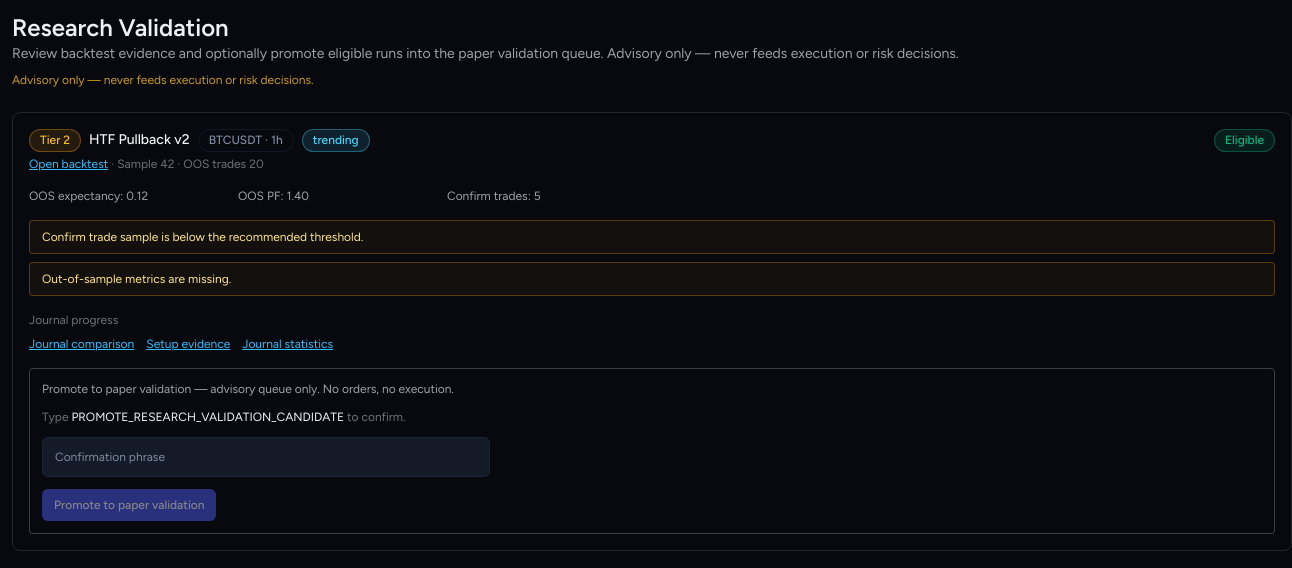
ResearchValidationPage AT-035 › shows already-exists message on idempotent promote
The image size is (1292, 568).
Type "PROMOTE_RESEARCH_VALIDATION_CANDIDATE" into the field with test id "research-validation-promote-confirm". click: [266, 457]
box: [42,437,490,477]
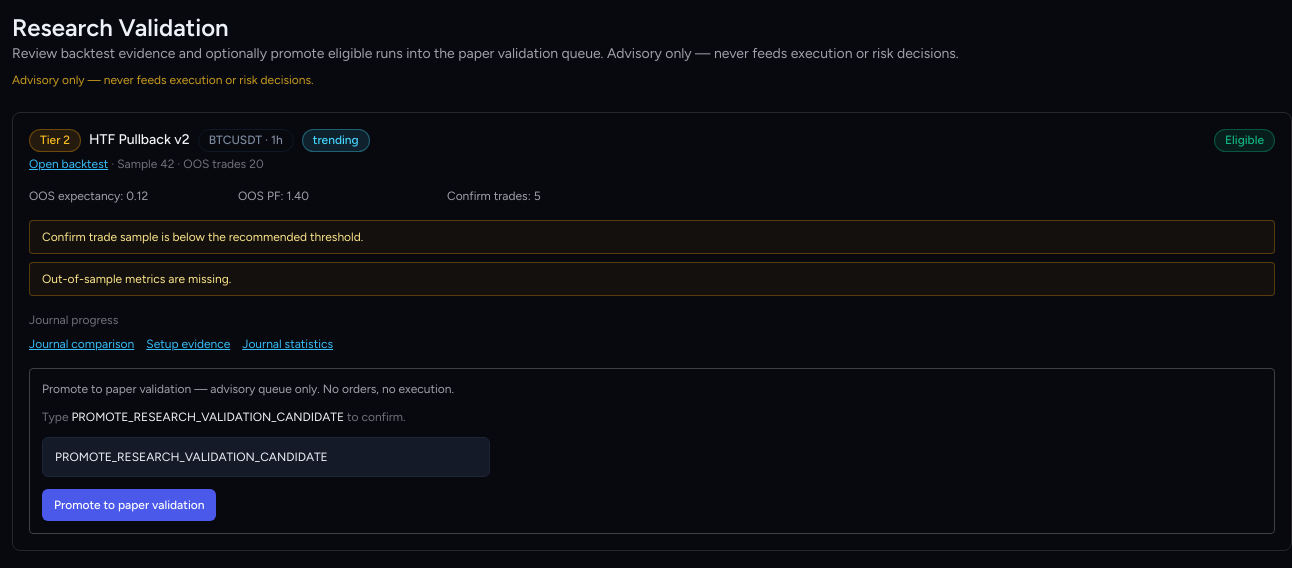
Click the button with test id "research-validation-promote-submit". click: [129, 505]
box: [42,489,216,521]
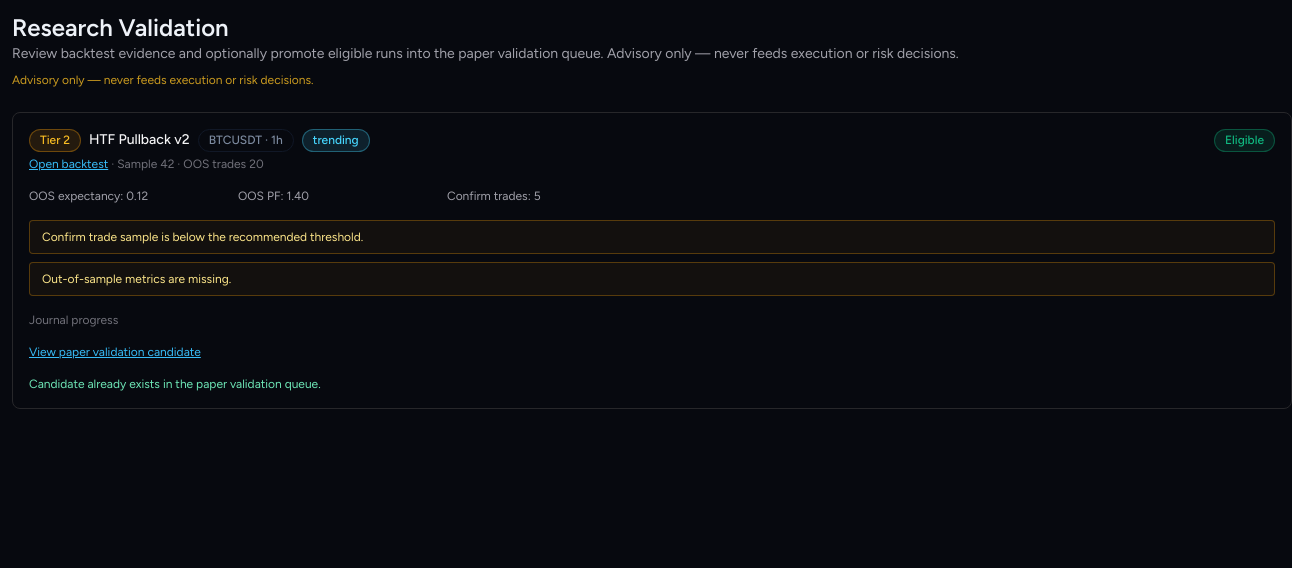
Expected: the text with test id "research-validation-promoted" shows "already exists in the paper validation queue", [29,377,321,391]
